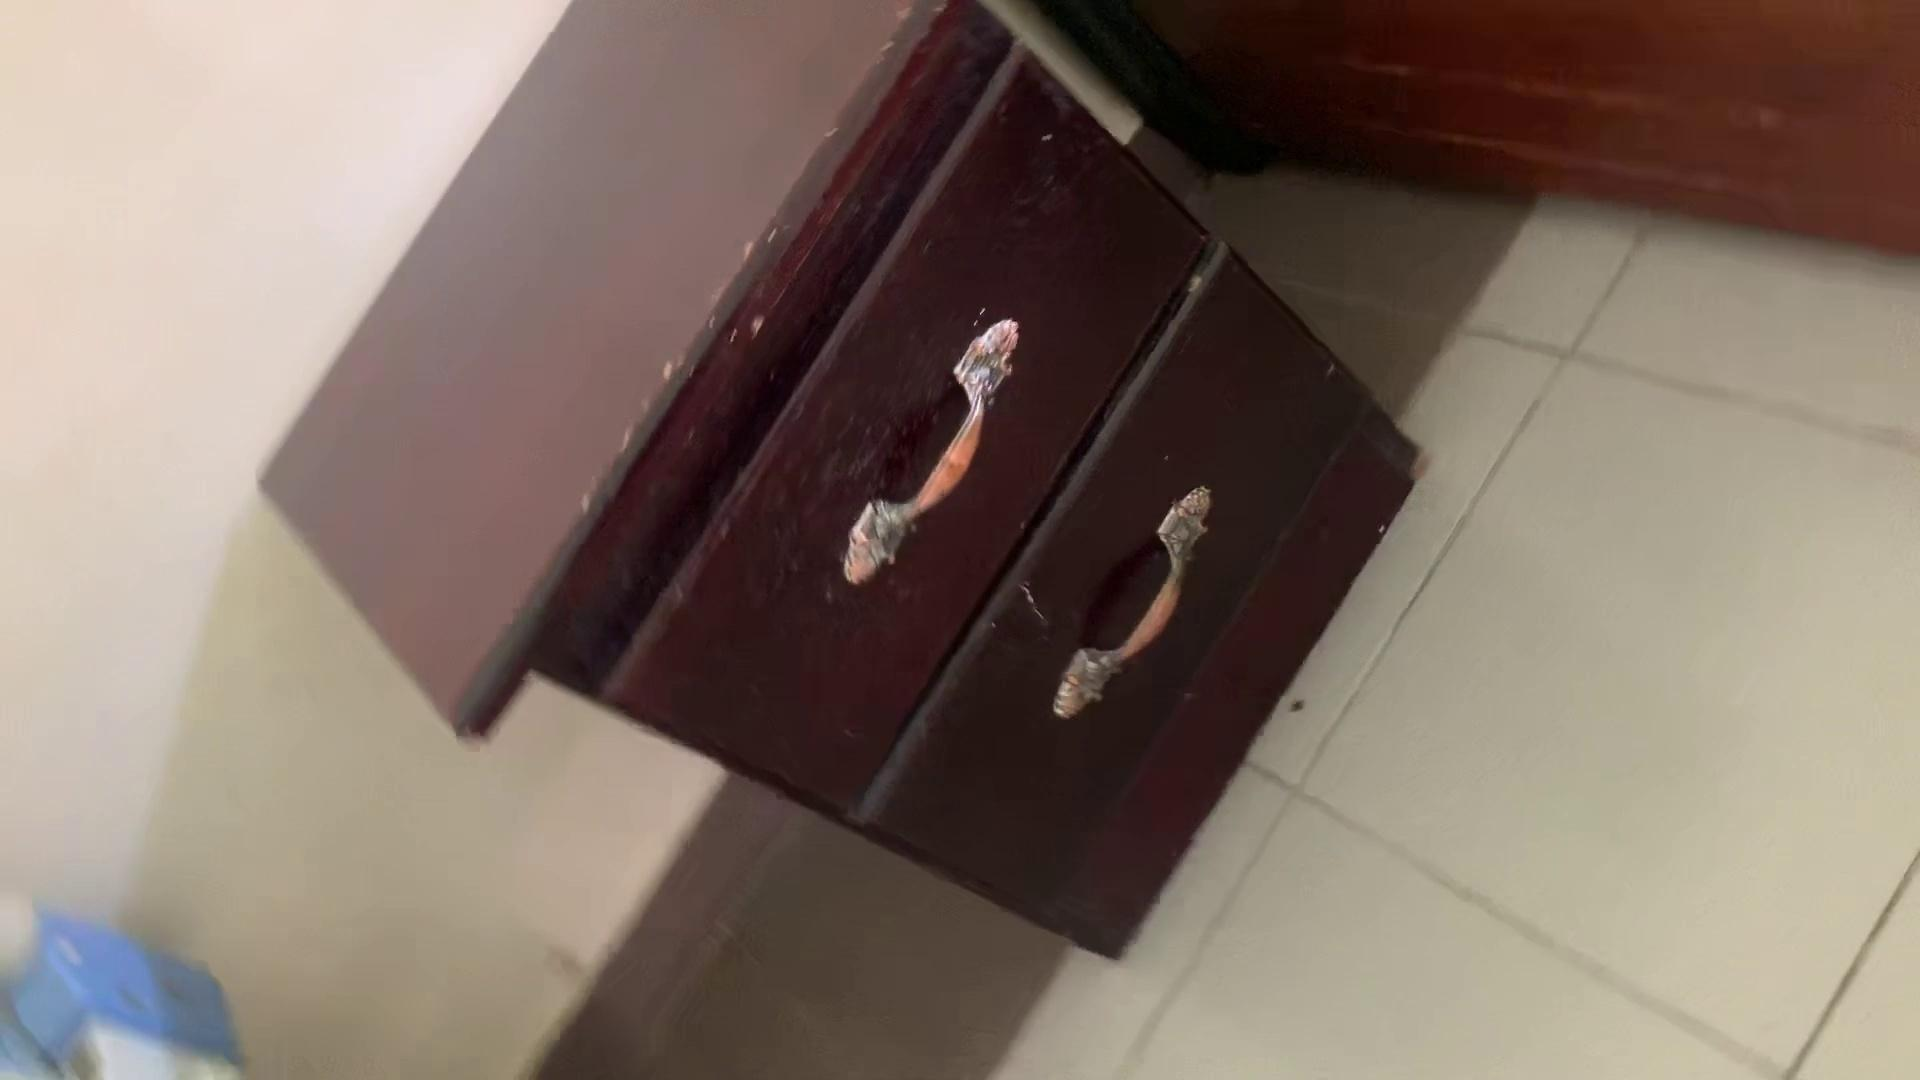cabinet_door: (708, 170, 1029, 733), (996, 305, 1271, 873)
handle: (840, 302, 1030, 595), (1044, 479, 1220, 728)
